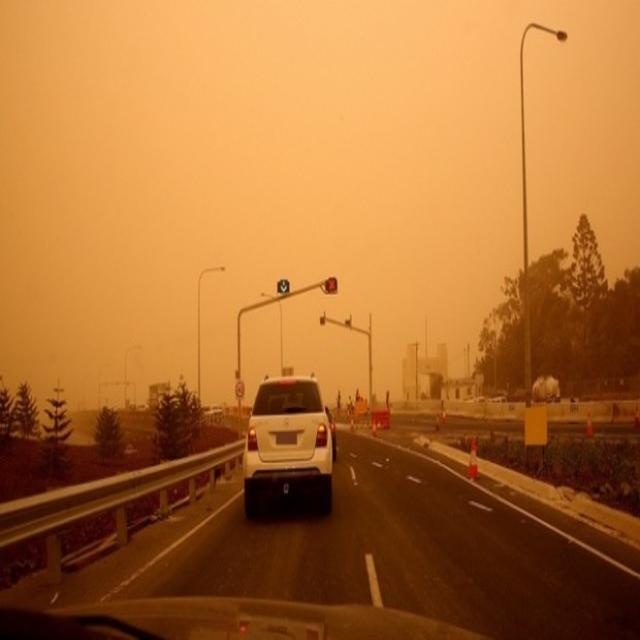car: (242, 376, 336, 519)
